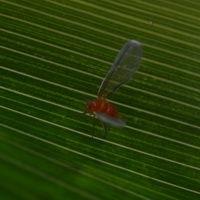insect: (85, 40, 141, 127)
